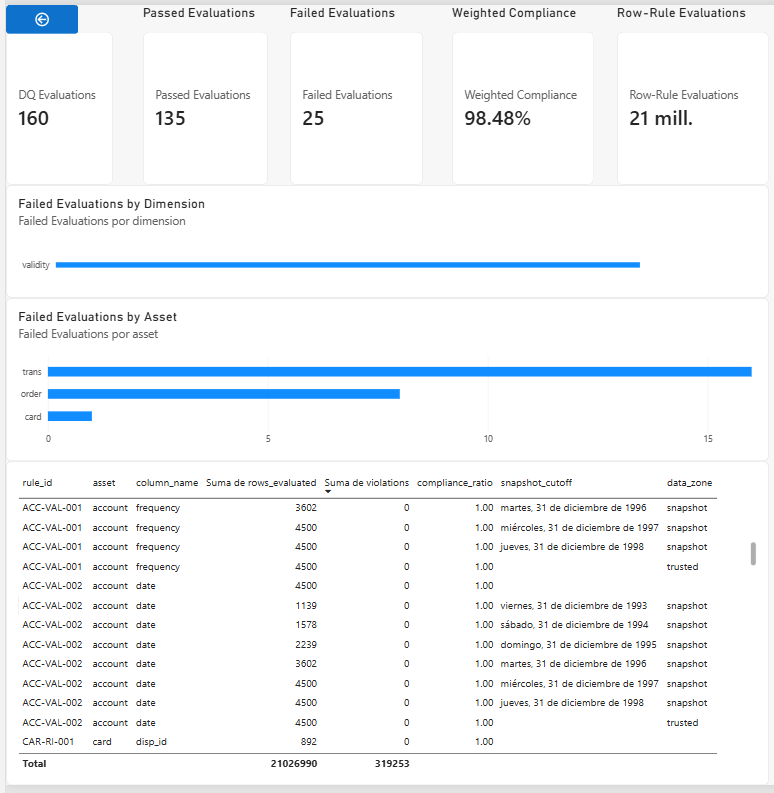

Layout of this report page (visuals, bound fields, positions):
{"tool":"powerbi","page":{"name":"Data Quality","canvas":[1920,1080],"ordinal":1},"visuals":[{"type":"cardVisual","title":"Evaluations","fields":{"Data":["_Measures.DQ Evaluations"]},"box":[0,0,148.1,249.2],"z":0},{"type":"cardVisual","title":"Failed Evaluations","fields":{"Data":["_Measures.Failed Evaluations"]},"box":[393.1,0,184.1,249.2],"z":1000},{"type":"cardVisual","title":"Passed Evaluations","fields":{"Data":["_Measures.Passed Evaluations"]},"box":[189.6,0,173,249.2],"z":2000},{"type":"cardVisual","title":"Weighted Compliance","fields":{"Data":["_Measures.Weighted Compliance"]},"box":[617.4,0,196.6,249.2],"z":3000},{"type":"cardVisual","title":"Row-Rule Evaluations","fields":{"Data":["_Measures.Row-Rule Evaluations"]},"box":[845.8,0,210.4,249.2],"z":4000},{"type":"clusteredBarChart","title":"Failed Evaluations by Dimension","fields":{"Category":["dq_evaluations.dimension"],"Y":["_Measures.Failed Evaluations"]},"box":[0,249.2,1056.2,156.4],"z":5000},{"type":"clusteredBarChart","title":"Failed Evaluations by Asset","fields":{"Y":["_Measures.Failed Evaluations"],"Category":["dq_evaluations.asset"]},"box":[0,405.6,1056.2,225.6],"z":6000},{"type":"tableEx","fields":{"Values":["dq_evaluations.rule_id","dq_evaluations.asset","dq_evaluations.column_name","Sum(dq_evaluations.rows_evaluated)","Sum(dq_evaluations.violations)","dq_evaluations.compliance_ratio","dq_evaluations.snapshot_cutoff","dq_evaluations.data_zone"]},"box":[0,631.2,1056.2,448.5],"z":7000}]}

Visuals, with their boxes on the page's 1920x1080 design canvas (x1, y1, x2, y2). These are canvas units, not pixel positions in the 774x793 screenshot, which may show the page scaled, cropped or inside an application window:
"Evaluations" cardVisual: rect(0, 0, 148, 249)
"Failed Evaluations" cardVisual: rect(393, 0, 577, 249)
"Passed Evaluations" cardVisual: rect(190, 0, 363, 249)
"Weighted Compliance" cardVisual: rect(617, 0, 814, 249)
"Row-Rule Evaluations" cardVisual: rect(846, 0, 1056, 249)
"Failed Evaluations by Dimension" clusteredBarChart: rect(0, 249, 1056, 406)
"Failed Evaluations by Asset" clusteredBarChart: rect(0, 406, 1056, 631)
tableEx - dq_evaluations.rule_id x dq_evaluations.asset: rect(0, 631, 1056, 1080)
